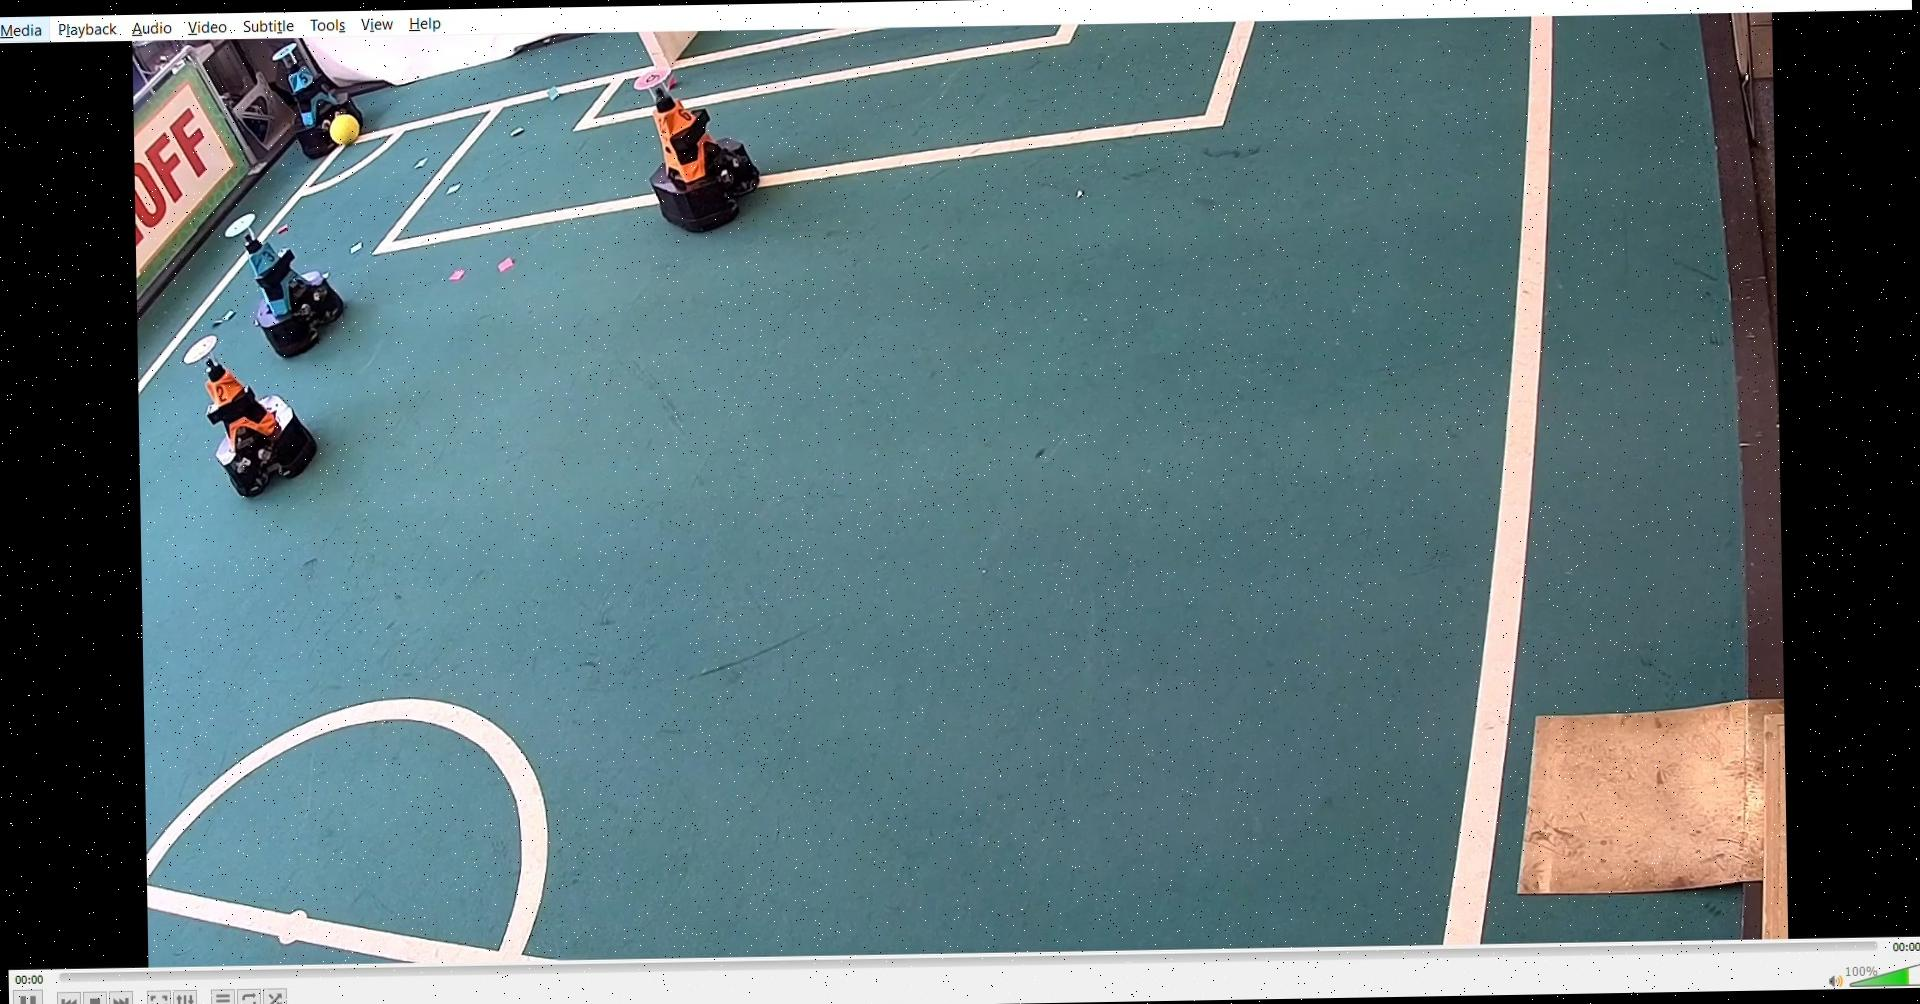Ball: (324, 112, 364, 150)
Team_Blue: (225, 207, 358, 349), (269, 38, 381, 166)
Team_Red: (174, 330, 328, 499), (634, 55, 771, 236)
